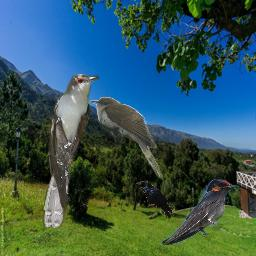Crow: (136, 181, 172, 218)
Cuckoo: (42, 72, 100, 228), (90, 97, 163, 180)
Swallow: (161, 179, 236, 245)
